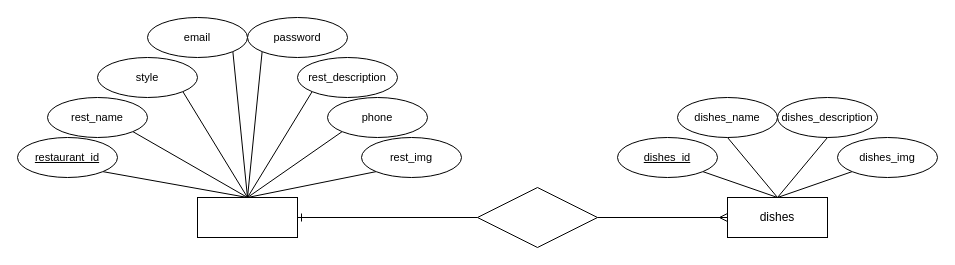
Some shapes in this 955 by 265 pixel diagram are drawn without their labels. Here are the shapes that lost their labels. From the top down, the centre of each, then its label:
At (x=247, y=217): "restaurant".
At (x=537, y=217): "offers".
